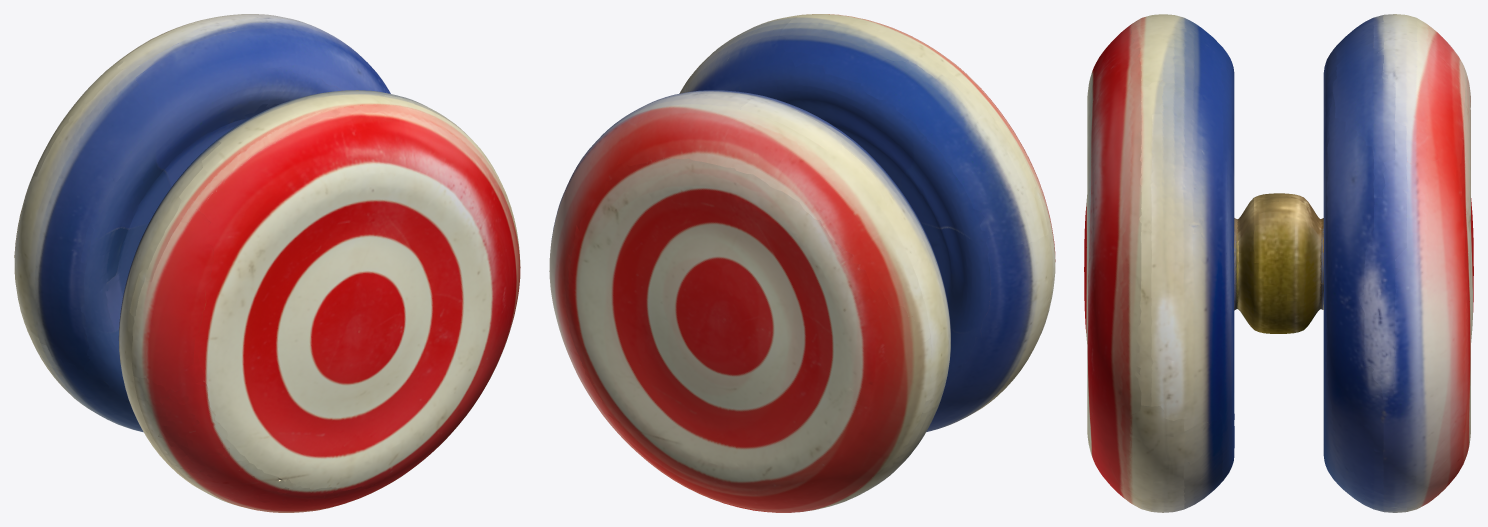
File: retro-yoyo.glb
3 views of the same model, side by side, from view 1: azimuth 30°, elevation 25°; view 2: azimuth 150°, elevation 25°; view 3: azimuth 270°, elevation 25° (orthographic). The views are drawn at different scales.
Visible parts, largest first — view 1: geometry_0; view 2: geometry_0; view 3: geometry_0.
Part boxes in pixels (box(x1,y1,x2,y2)): geometry_0: box(14, 14, 520, 512); geometry_0: box(549, 14, 1055, 512); geometry_0: box(1084, 14, 1473, 512).
Size of the model in its own units: 0.06 by 0.06 by 0.0469.
1 material, 1 textured.
